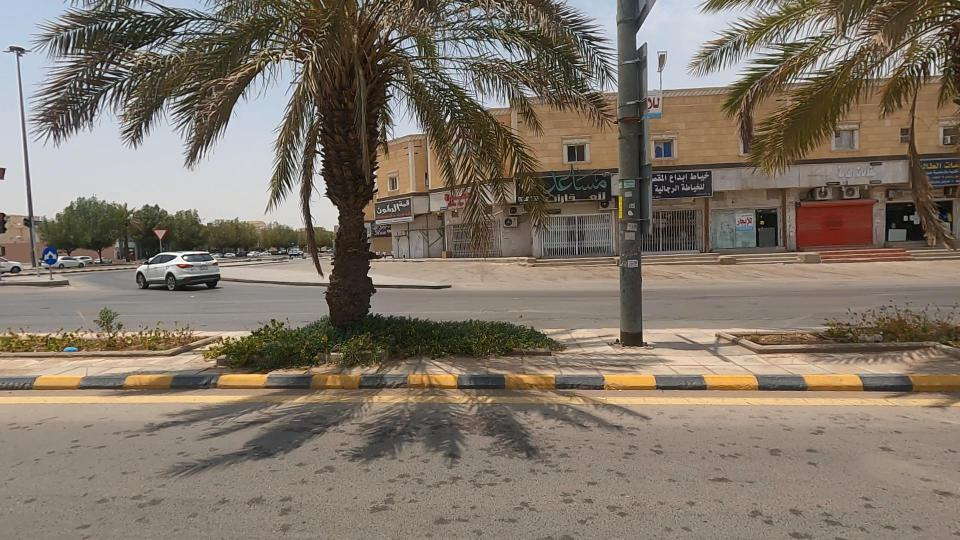BAD_BILLBOARD: (680, 135, 823, 225)
